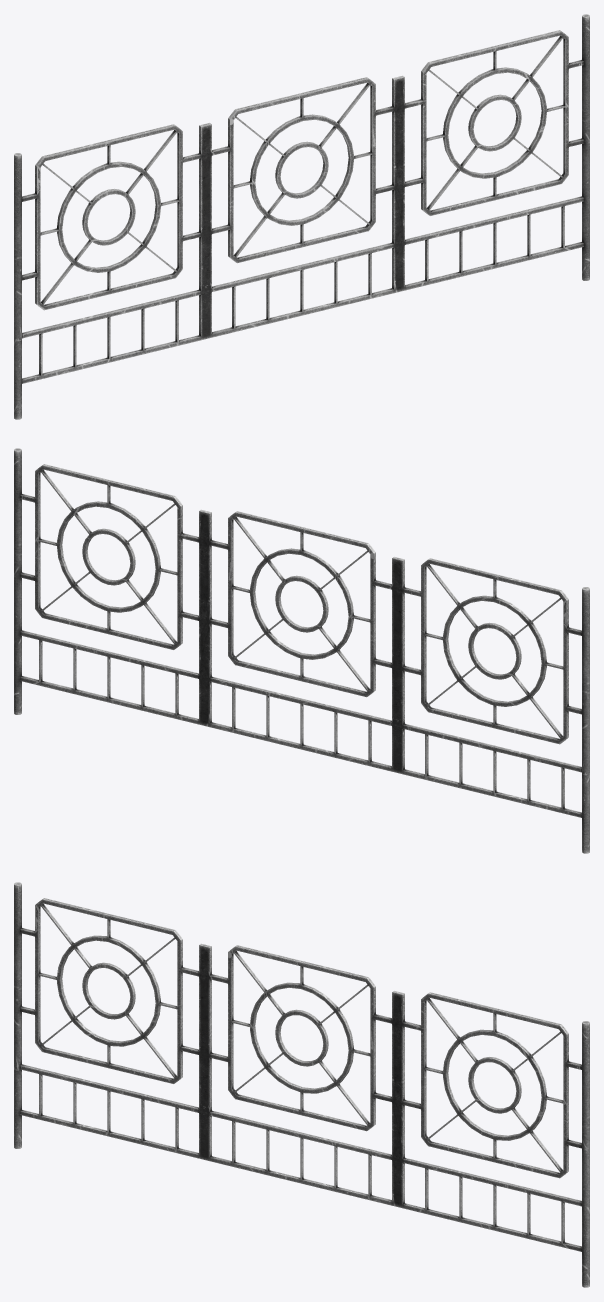
The model's file is zab_4.obj.
The picture shows the model from 3 angles, top to bottom: view 1: azimuth 30°, elevation 25°; view 2: azimuth 150°, elevation 25°; view 3: azimuth 330°, elevation 25°; orthographic projection.
Parts seen in each view (by area): view 1: ________0; view 2: ________0; view 3: ________0.
Part boxes in pixels (x1,y1,x2,y2): ________0: (14, 14, 589, 419); ________0: (14, 448, 589, 853); ________0: (14, 882, 589, 1287).
Size of the model in its own units: 1.69 by 0.74 by 0.02.
1 material, 1 textured.
